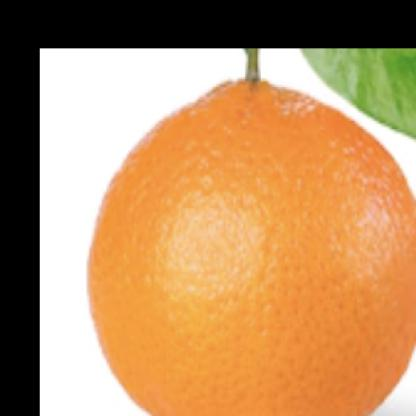rotten: (88, 75, 416, 416)
